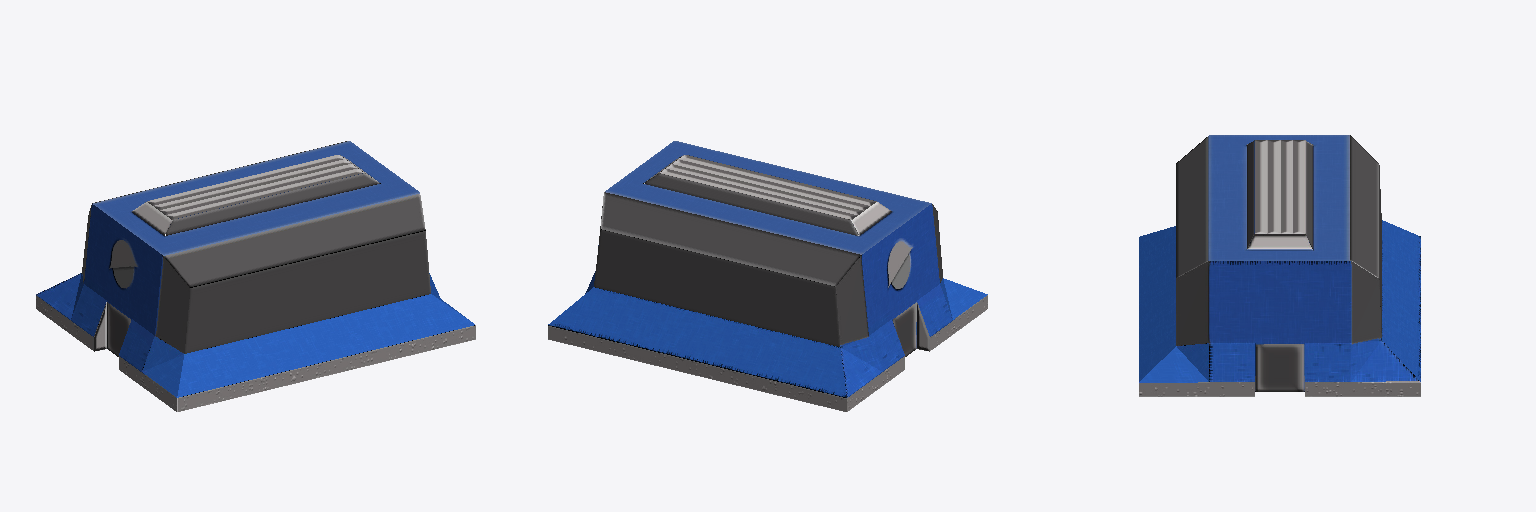
3 views of the same model, side by side, from view 1: azimuth 30°, elevation 25°; view 2: azimuth 150°, elevation 25°; view 3: azimuth 270°, elevation 25° (orthographic).
Parts seen in each view (by area): view 1: Box001; view 2: Box001; view 3: Box001.
Part boxes in pixels (x1,y1,x2,y2): Box001: (36,141,475,411); Box001: (548,141,987,411); Box001: (1139,135,1420,396).
Bounding box in the file's own units: 39.68 × 17.46 × 32.48.
Materials: 1 (1 with a texture image).